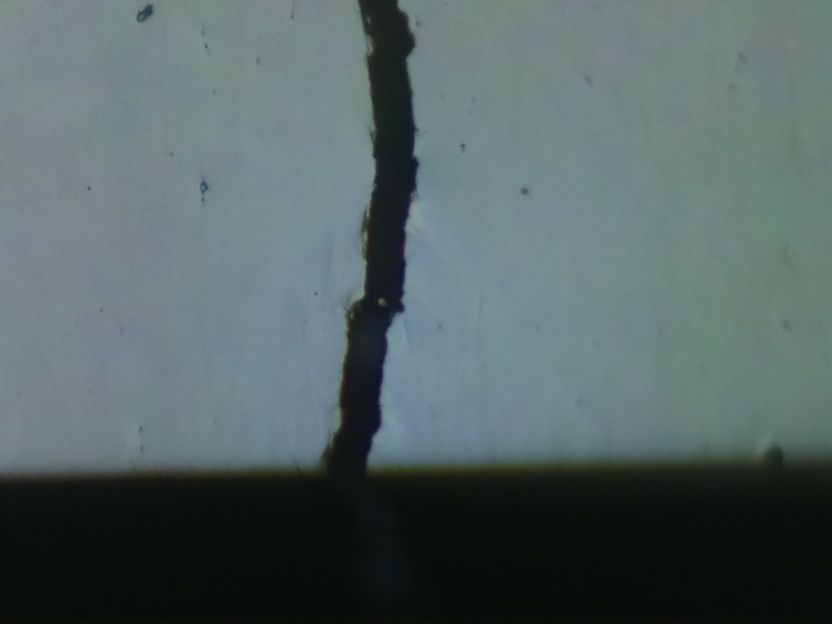crack: (311, 0, 419, 476)
